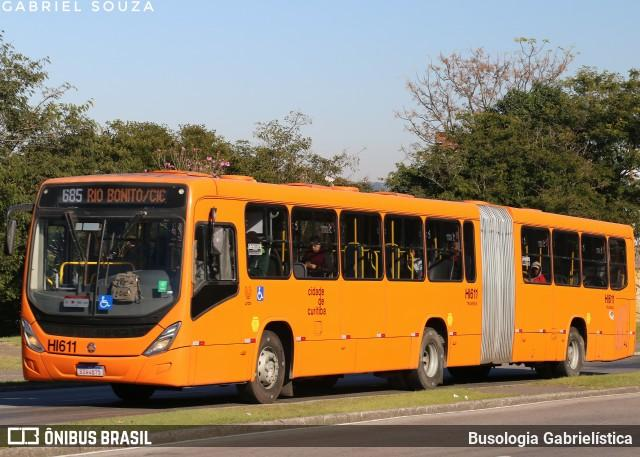RIO BONITO CIC: (84, 184, 169, 206)
